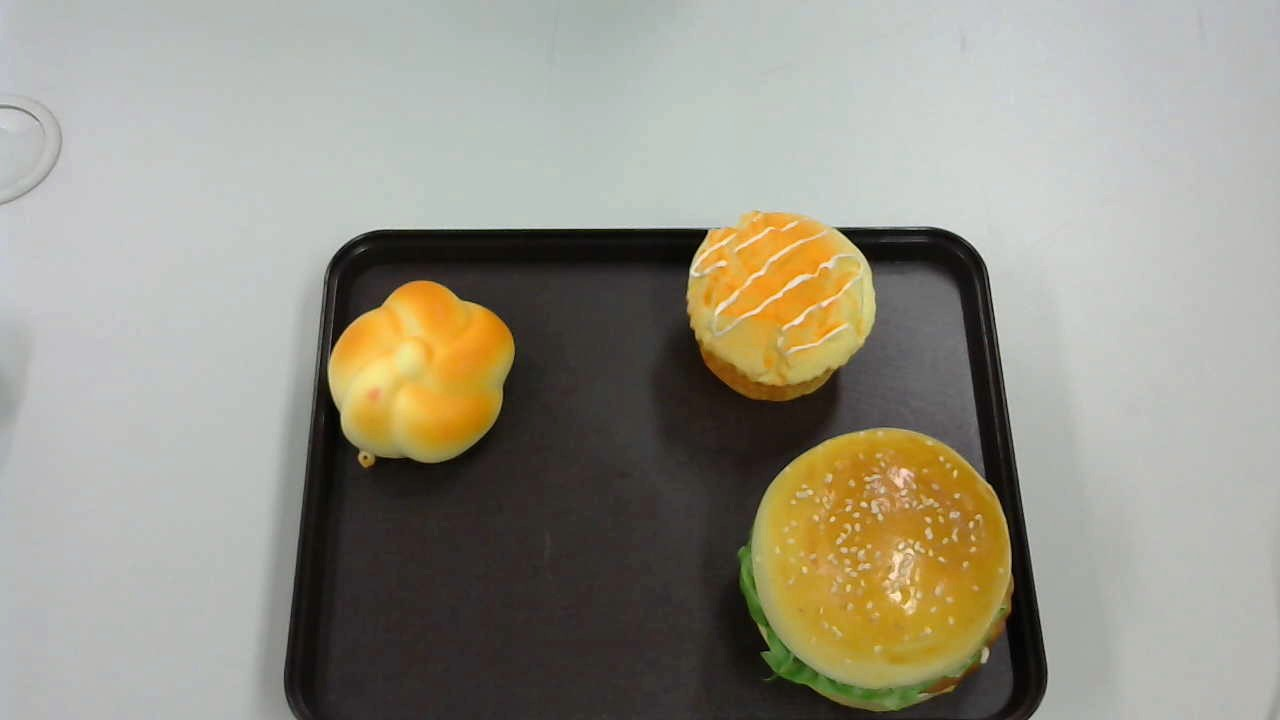cupcake: (687, 211, 875, 401)
hamburger: (737, 428, 1014, 712)
twist bread: (328, 279, 515, 467)
